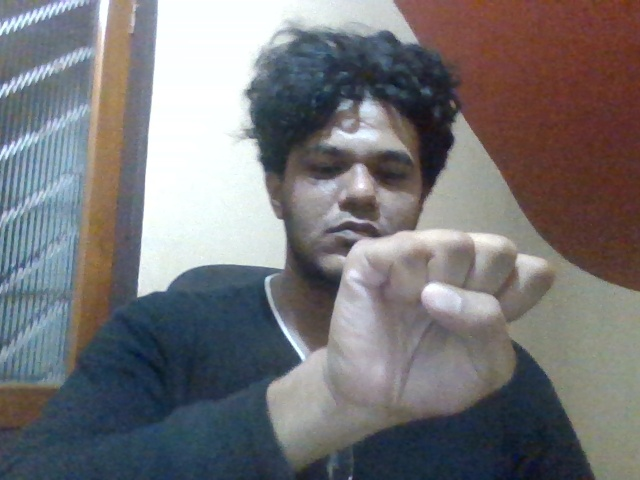no: (307, 232, 552, 412)
